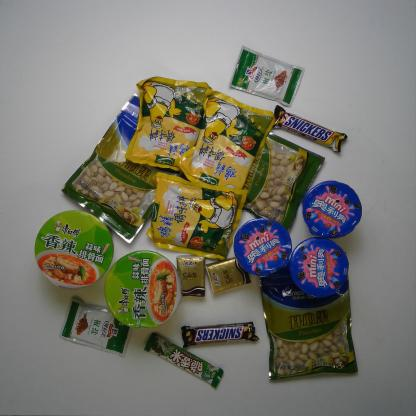Chocolate: (142, 332, 224, 389), (273, 104, 348, 153), (180, 320, 260, 348)
Dessert: (288, 237, 350, 298), (233, 216, 294, 277), (301, 179, 363, 239)
Dried Fruit: (60, 92, 174, 245), (259, 264, 358, 381), (240, 131, 327, 231)
Instant Noodles: (33, 208, 116, 291), (103, 249, 182, 330)
Seasoner: (176, 87, 276, 190), (146, 171, 250, 262), (124, 76, 214, 171), (229, 45, 305, 107), (58, 296, 132, 357)
Tissue: (204, 256, 252, 294), (176, 253, 206, 297)
